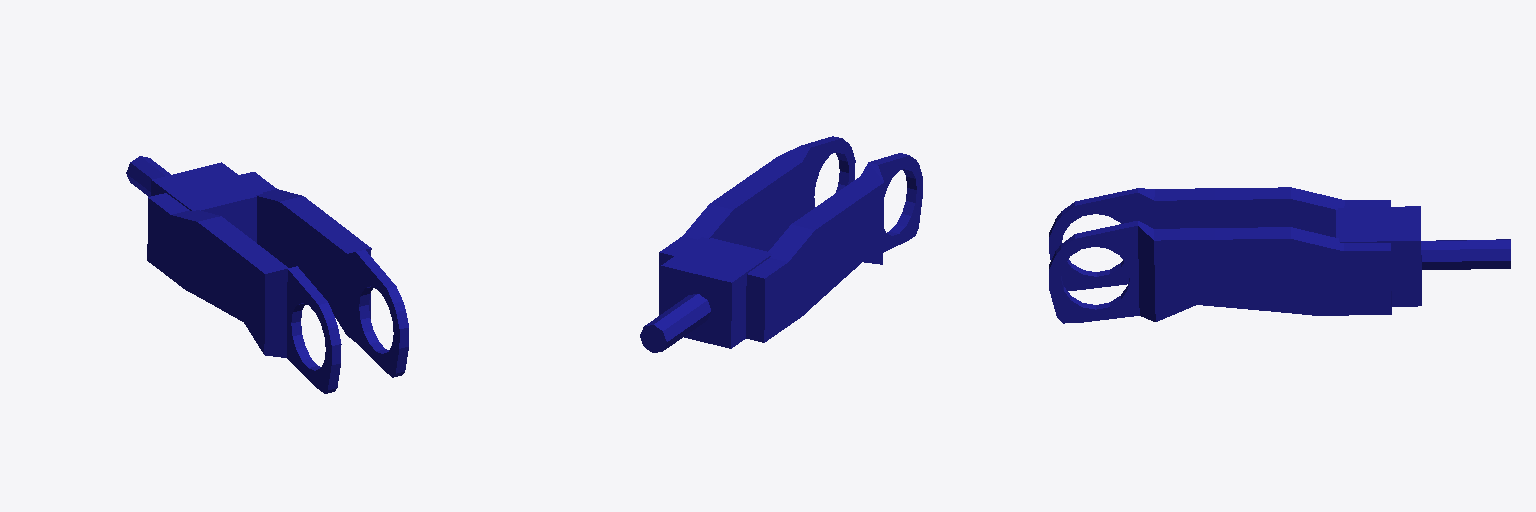
The picture shows the model from 3 angles: view 1: azimuth 30°, elevation 25°; view 2: azimuth 150°, elevation 25°; view 3: azimuth 270°, elevation 25°; orthographic projection.
Visible parts, largest first — view 1: L_HR.2_ShapeIndexedFaceS.078, L_HR.1_ShapeIndexedFaceS.077, L_HR.3_ShapeIndexedFaceS.079; view 2: L_HR.2_ShapeIndexedFaceS.078, L_HR.1_ShapeIndexedFaceS.077, L_HR.3_ShapeIndexedFaceS.079; view 3: L_HR.1_ShapeIndexedFaceS.077, L_HR.2_ShapeIndexedFaceS.078, L_HR.3_ShapeIndexedFaceS.079.
Part boxes in pixels (x1,y1,x2,y2): L_HR.2_ShapeIndexedFaceS.078: (147, 193, 341, 393); L_HR.1_ShapeIndexedFaceS.077: (239, 172, 408, 377); L_HR.3_ShapeIndexedFaceS.079: (126, 156, 262, 242); L_HR.2_ShapeIndexedFaceS.078: (746, 153, 922, 342); L_HR.1_ShapeIndexedFaceS.077: (659, 136, 855, 315); L_HR.3_ShapeIndexedFaceS.079: (640, 237, 771, 352); L_HR.1_ShapeIndexedFaceS.077: (1049, 221, 1391, 323); L_HR.2_ShapeIndexedFaceS.078: (1049, 187, 1390, 290); L_HR.3_ShapeIndexedFaceS.079: (1336, 206, 1510, 306).
Size of the model in its own units: 2.59 by 2.28 by 9.68.